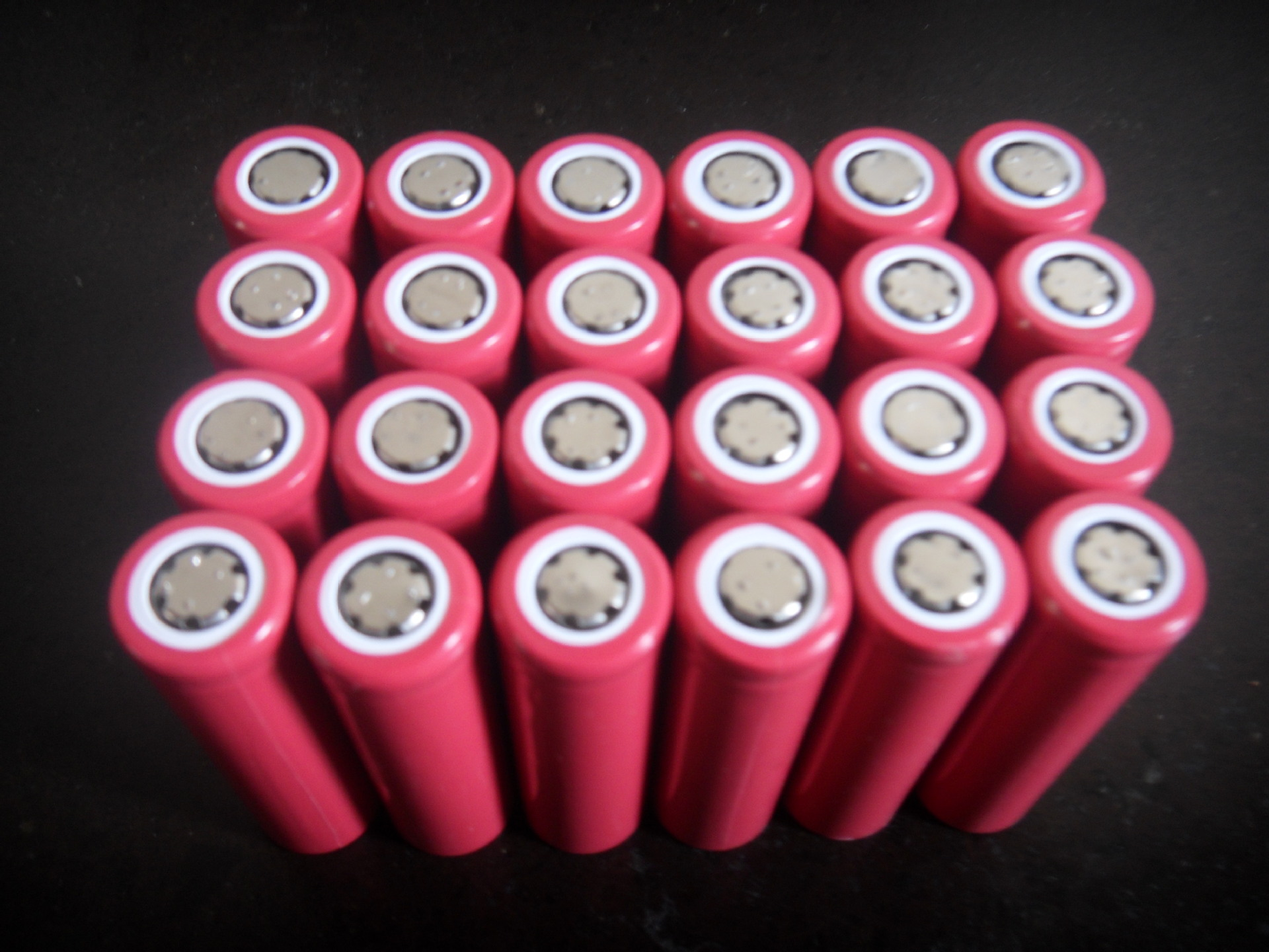battery: (291, 503, 506, 875)
